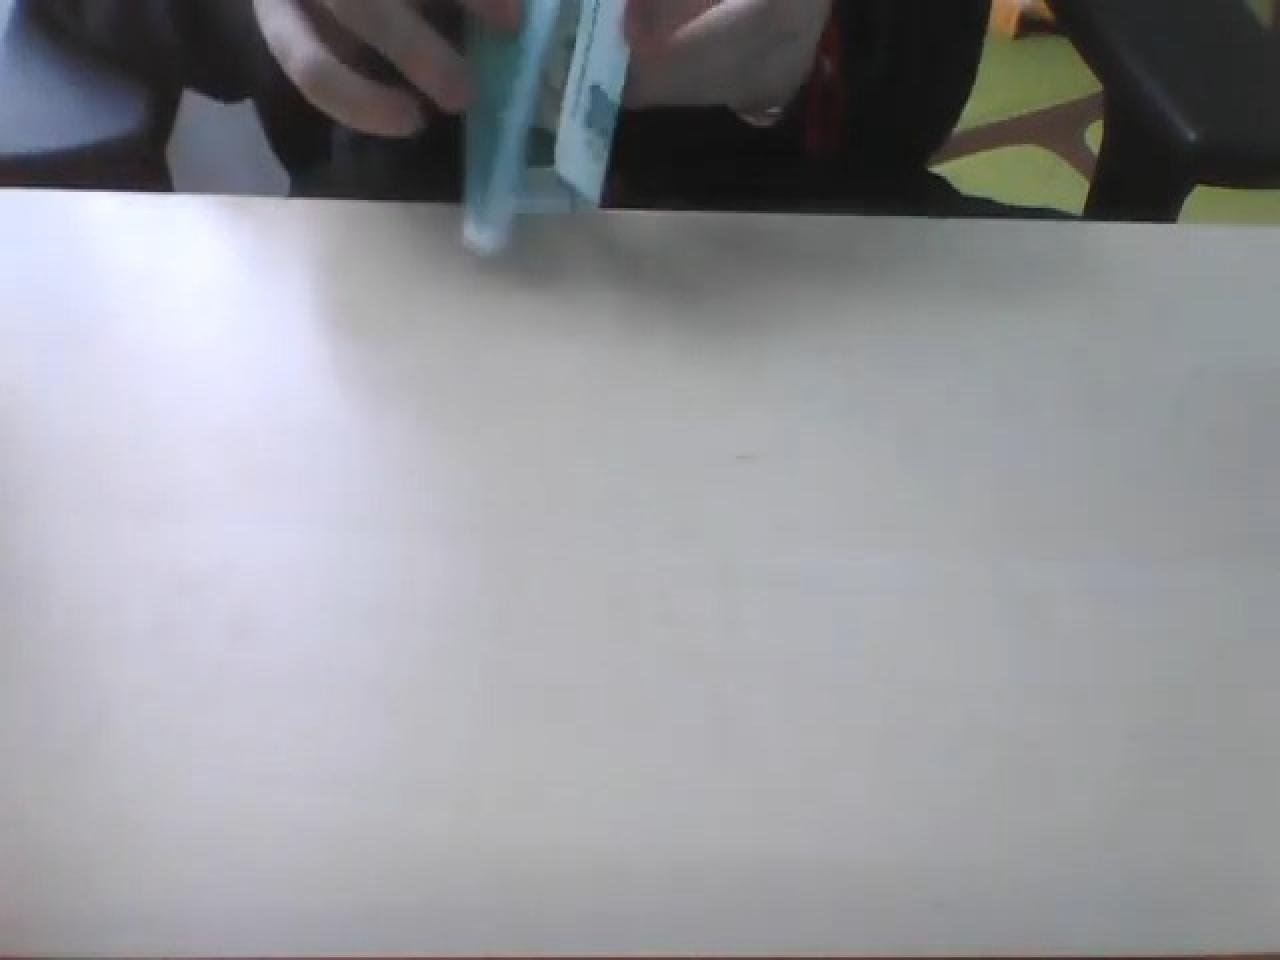100leva: (8, 0, 1274, 232)
